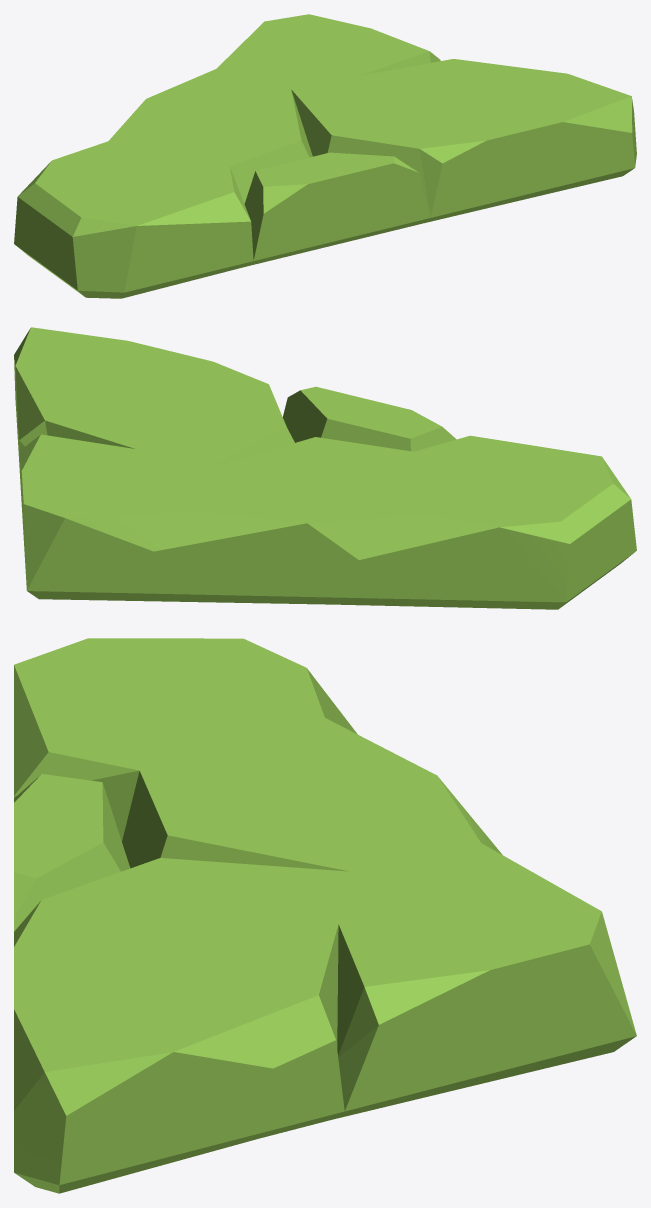
Rendered from mesh_ConcreteSlab3_v2.fbx.
The picture shows the model from 3 angles, top to bottom: view 1: azimuth 30°, elevation 25°; view 2: azimuth 150°, elevation 25°; view 3: azimuth 270°, elevation 25°; orthographic projection. The views are drawn at different scales.
Parts seen in each view (by area): view 1: mesh_ConcreteSlab3_v2_0; view 2: mesh_ConcreteSlab3_v2_0; view 3: mesh_ConcreteSlab3_v2_0.
Boxes of the visible parts, left/top/right/bottom form: mesh_ConcreteSlab3_v2_0: left=14, top=14, right=636, bottom=298; mesh_ConcreteSlab3_v2_0: left=14, top=327, right=636, bottom=609; mesh_ConcreteSlab3_v2_0: left=14, top=638, right=636, bottom=1193.
Bounding box in the file's own units: 157 × 20.33 × 91.45.
